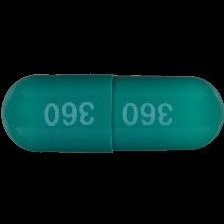68682-371: (0, 0, 224, 224)
